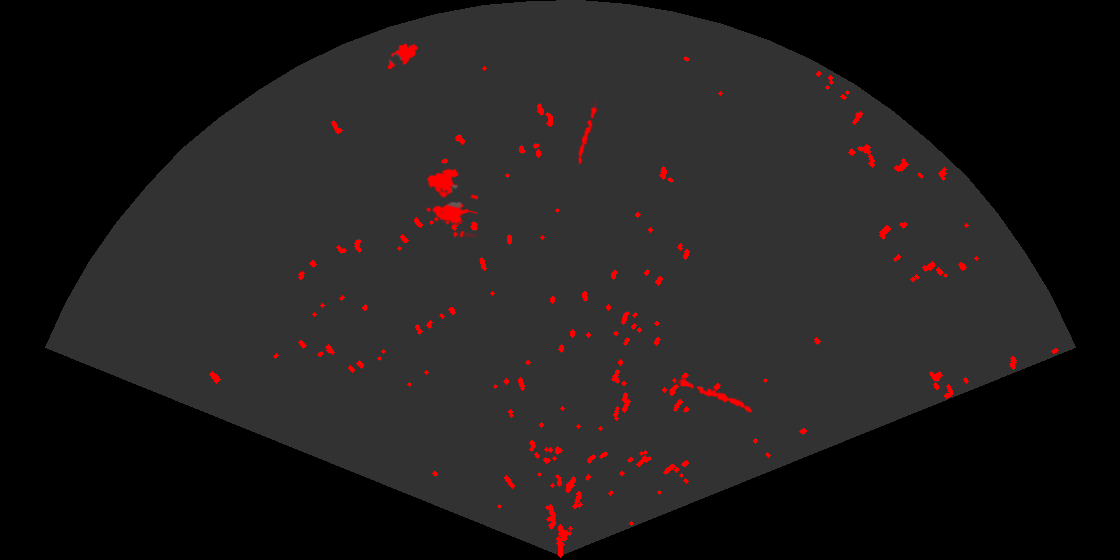AUV: (386, 42, 420, 71)
cage: (424, 167, 478, 237)
chain: (676, 377, 754, 414), (576, 102, 599, 165)
